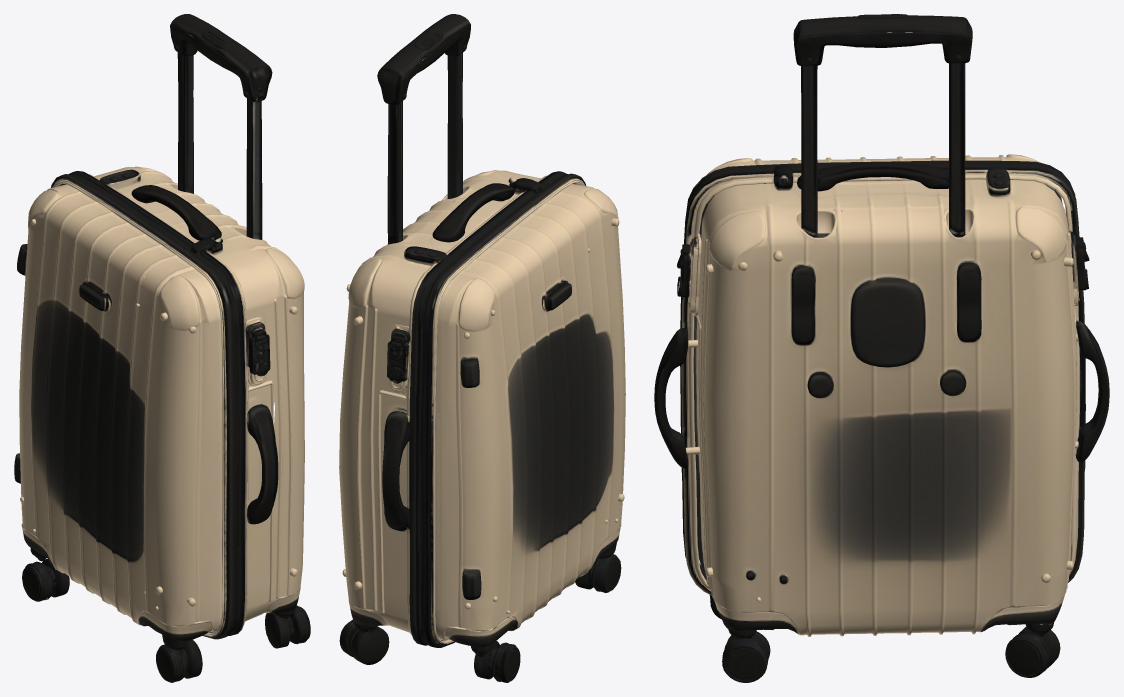
Rendered from toonstudio_travel_suitcase.glb.
3 renders of one model, left to right at view 1: azimuth 30°, elevation 25°; view 2: azimuth 150°, elevation 25°; view 3: azimuth 270°, elevation 25°, orthographic. The views are drawn at different scales.
Parts seen in each view (by area): view 1: fd0ded81_3e48_4717_b904_ce74814fa26c; view 2: fd0ded81_3e48_4717_b904_ce74814fa26c; view 3: fd0ded81_3e48_4717_b904_ce74814fa26c.
Part boxes in pixels (x1=…): fd0ded81_3e48_4717_b904_ce74814fa26c: x1=14, y1=14, x2=310, y2=682; fd0ded81_3e48_4717_b904_ce74814fa26c: x1=339, y1=14, x2=625, y2=682; fd0ded81_3e48_4717_b904_ce74814fa26c: x1=654, y1=14, x2=1109, y2=682.
Size of the model in its own units: 0.2275 by 0.75 by 0.4701.
1 material, 1 textured.
